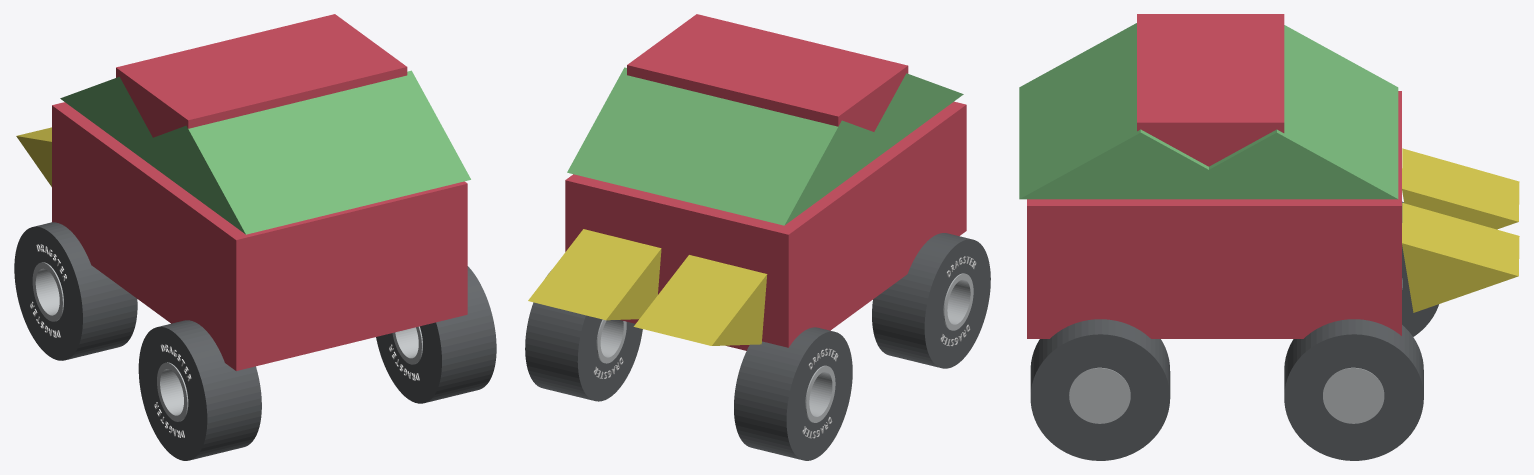
3 views of the same model, side by side, from view 1: azimuth 30°, elevation 25°; view 2: azimuth 150°, elevation 25°; view 3: azimuth 270°, elevation 25° (orthographic). The views are drawn at different scales.
Visible parts, largest first — view 1: Mesh_Mesh_head_geo.001_lambert2SG.001; view 2: Mesh_Mesh_head_geo.001_lambert2SG.001; view 3: Mesh_Mesh_head_geo.001_lambert2SG.001.
Part boxes in pixels (x1,y1,x2,y2): Mesh_Mesh_head_geo.001_lambert2SG.001: (14,14,496,460); Mesh_Mesh_head_geo.001_lambert2SG.001: (525,14,990,460); Mesh_Mesh_head_geo.001_lambert2SG.001: (1019,14,1519,460).
Bounding box in the file's own units: 46.5 × 48 × 68.
